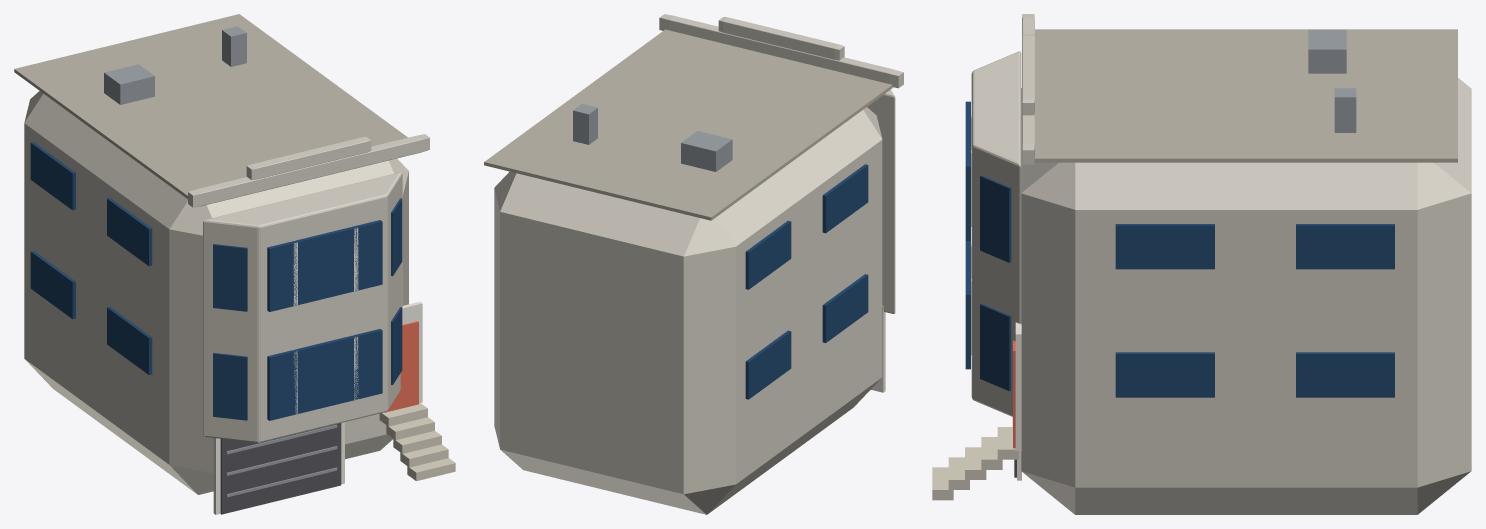
The model's file is rich_w7_stepped.glb.
The picture shows the model from 3 angles, left to right: view 1: azimuth 30°, elevation 25°; view 2: azimuth 150°, elevation 25°; view 3: azimuth 270°, elevation 25°; orthographic projection. The views are drawn at different scales.
Visible parts, largest first — view 1: walls, roofslab, bay, bw, bw.001, gdoor, pp, bwa.002, bwa, pp2, sb.006, sb (+14 smaller); view 2: walls, roofslab, pp, bay, pp2, sb.004, sb.002, sb.006, sb, hvac, pipe; view 3: walls, roofslab, bay, sb.001, sb.005, sb.003, sb.007, bwa.001, bwa.003, hvac, pp2, pipe (+8 smaller).
Boxes of the visible parts, bbox=[...] form: walls: bbox=[24, 91, 408, 494]; roofslab: bbox=[14, 14, 407, 198]; bay: bbox=[203, 172, 402, 442]; bw: bbox=[267, 329, 382, 420]; bw.001: bbox=[267, 220, 382, 311]; gdoor: bbox=[220, 423, 341, 514]; pp: bbox=[188, 134, 429, 207]; bwa.002: bbox=[213, 244, 247, 311]; bwa: bbox=[213, 352, 247, 420]; pp2: bbox=[246, 136, 371, 179]; sb.006: bbox=[30, 142, 75, 210]; sb: bbox=[107, 307, 152, 375]; walls: bbox=[494, 107, 882, 514]; roofslab: bbox=[484, 29, 892, 220]; pp: bbox=[659, 14, 903, 88]; bay: bbox=[867, 89, 895, 313]; pp2: bbox=[718, 17, 844, 60]; sb.004: bbox=[822, 164, 868, 233]; sb.002: bbox=[745, 330, 791, 399]; sb.006: bbox=[745, 220, 791, 289]; sb: bbox=[822, 274, 868, 342]; hvac: bbox=[681, 131, 732, 171]; pipe: bbox=[573, 104, 597, 144]; walls: bbox=[1021, 78, 1471, 514]; roofslab: bbox=[1034, 29, 1457, 162]; bay: bbox=[971, 51, 1021, 416]; sb.001: bbox=[1115, 352, 1214, 397]; sb.005: bbox=[1115, 224, 1214, 269]; sb.003: bbox=[1296, 352, 1394, 397]; sb.007: bbox=[1296, 224, 1394, 269]; bwa.001: bbox=[980, 303, 1011, 391]; bwa.003: bbox=[980, 175, 1011, 262]; hvac: bbox=[1308, 29, 1346, 73]; pp2: bbox=[1022, 34, 1034, 115]; pipe: bbox=[1334, 88, 1356, 132].
Size of the model in its own units: 7.8 by 10.4 by 12.57.
